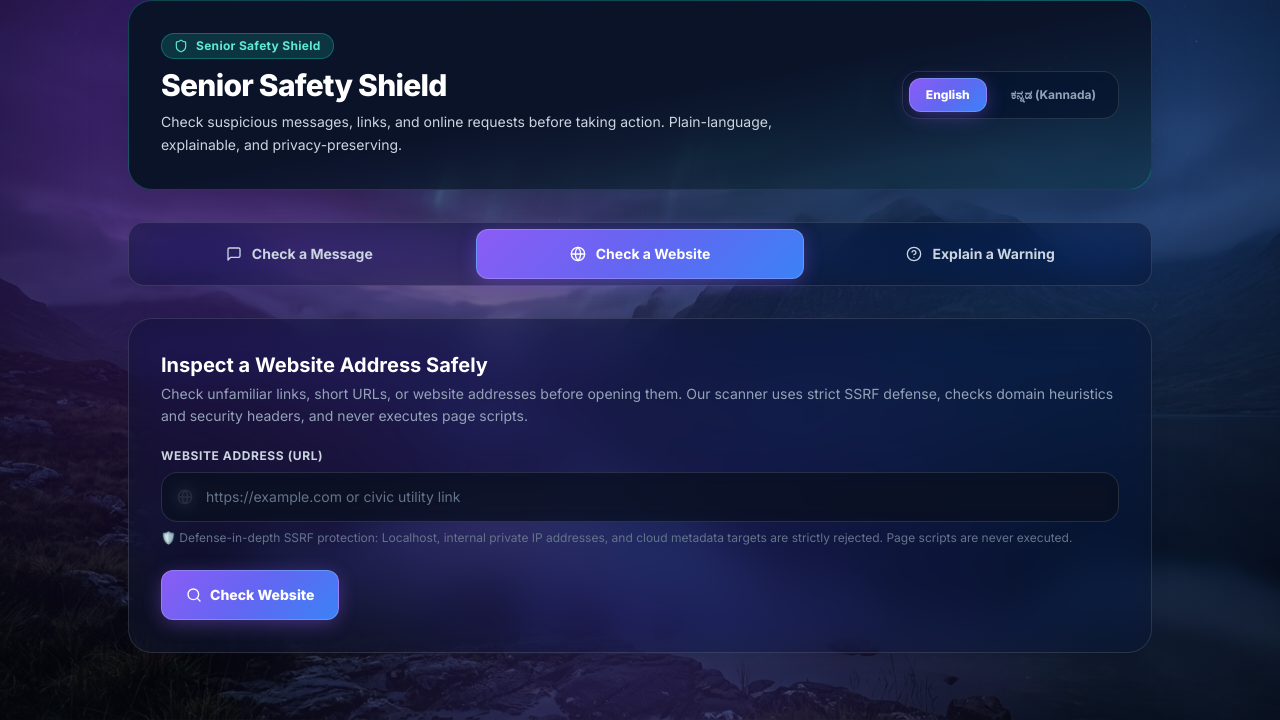
Test case: Senior Safety Shield — Frontend & Dashboard Integration › SafetyShieldPage Component › Check a Website: validates empty input
Click the button "Check Website".
click(250, 595)  # box [161, 570, 340, 620]
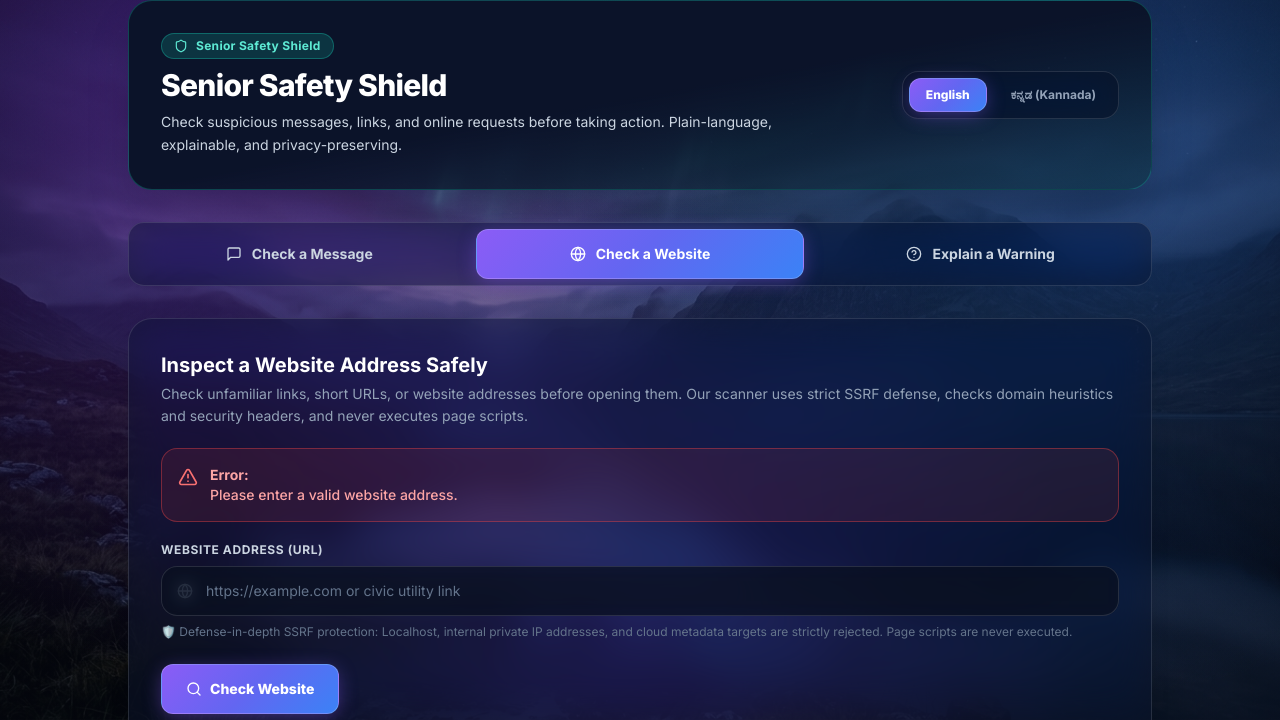
Expected: the message "Error: Please enter a valid website address." is shown, [161, 448, 1119, 522]
Expected: the text "Please enter a valid website address." is shown, [210, 485, 458, 505]
